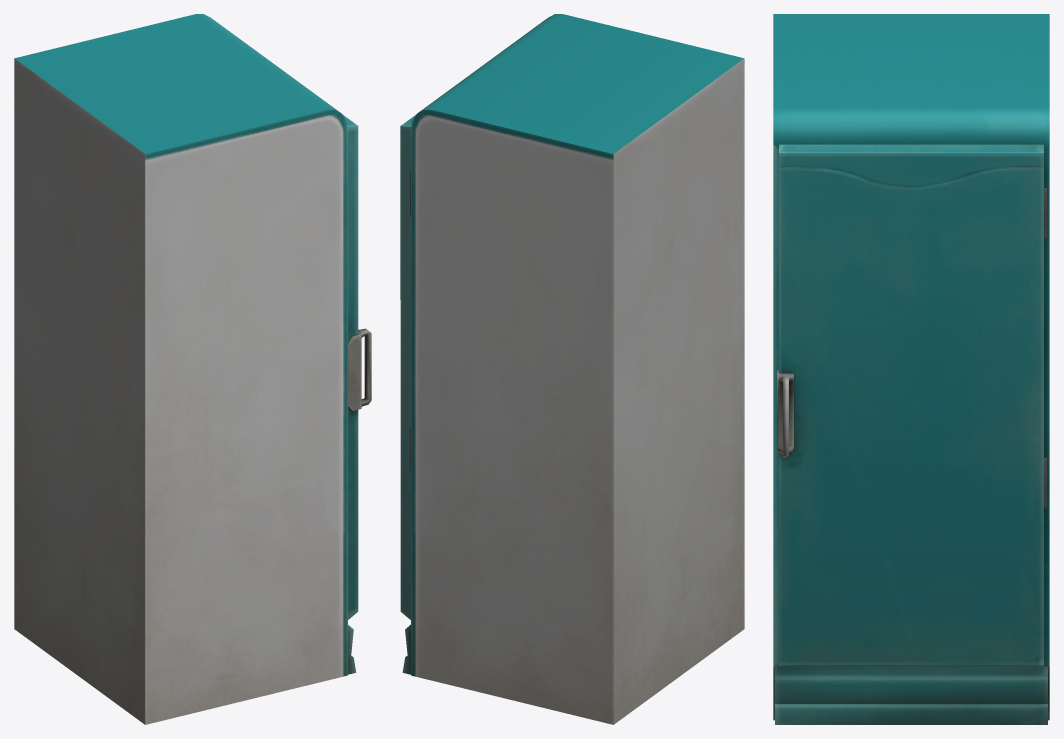
File: fridge.dae
The picture shows the model from 3 angles, left to right: view 1: azimuth 30°, elevation 25°; view 2: azimuth 150°, elevation 25°; view 3: azimuth 270°, elevation 25°; orthographic projection. The views are drawn at different scales.
Visible parts, largest first — view 1: fridge_base, fridge_door; view 2: fridge_base, fridge_door; view 3: fridge_door, fridge_base.
Part boxes in pixels (x1,y1,x2,y2): fridge_base: (14, 14, 356, 724); fridge_door: (342, 114, 371, 619); fridge_base: (402, 14, 744, 724); fridge_door: (400, 114, 416, 619); fridge_door: (777, 144, 1047, 666); fridge_base: (773, 14, 1049, 724).
Size of the model in its own units: 0.7841 by 1.85 by 0.7698.
1 material, 1 textured.
